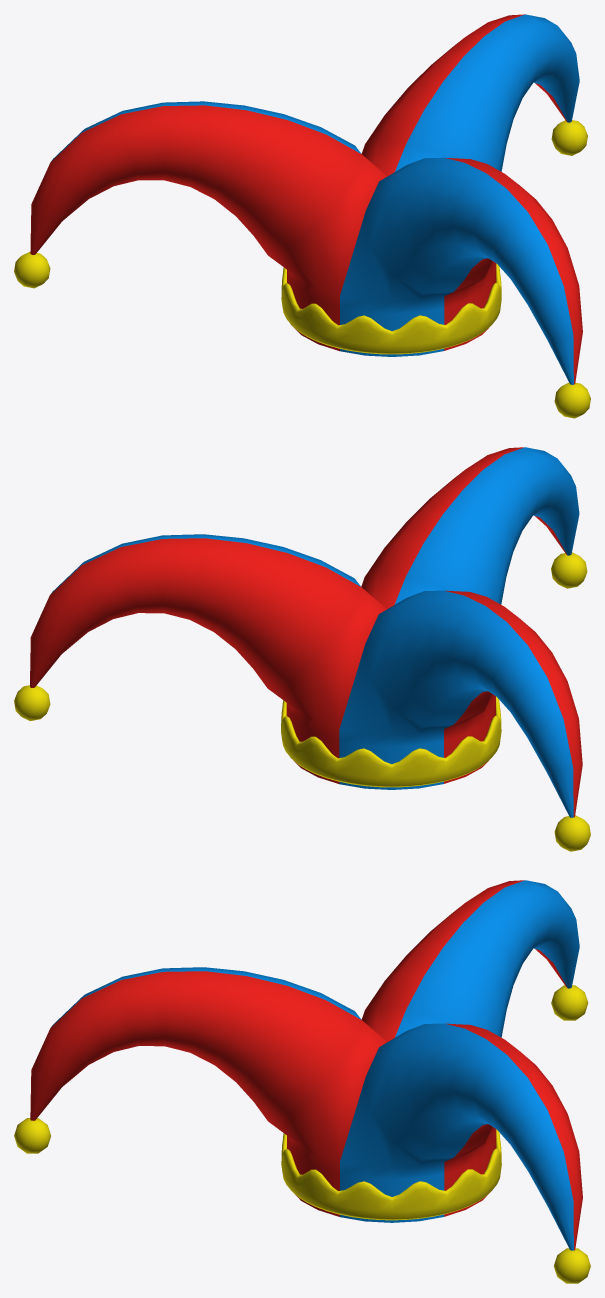
The model's file is HAT_Clown.fbx.
3 views of the same model, one above another, from view 1: azimuth 30°, elevation 25°; view 2: azimuth 150°, elevation 25°; view 3: azimuth 270°, elevation 25° (orthographic).
Parts seen in each view (by area): view 1: Clown_hat; view 2: Clown_hat; view 3: Clown_hat.
Part boxes in pixels (box(x1,y1,x2,y2)): Clown_hat: box(14, 14, 590, 418); Clown_hat: box(14, 447, 590, 851); Clown_hat: box(14, 880, 590, 1283).
Bounding box in the file's own units: 93.22 × 32.52 × 81.77.
